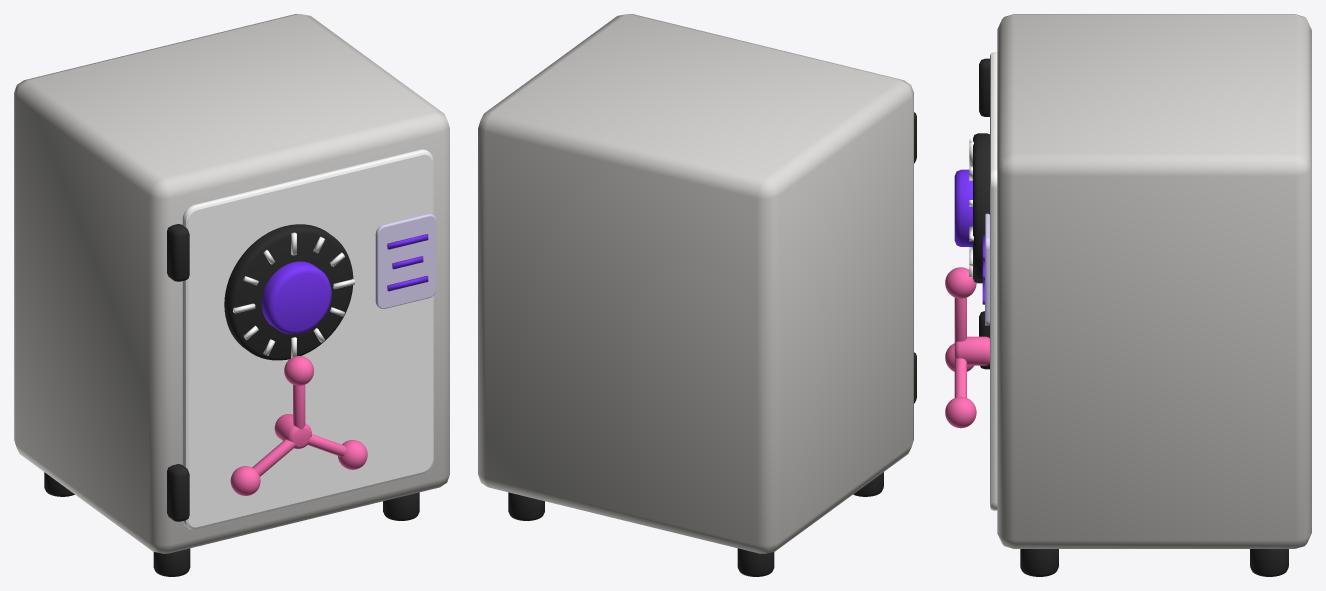
File: coffre.glb
The picture shows the model from 3 angles, left to right: view 1: azimuth 30°, elevation 25°; view 2: azimuth 150°, elevation 25°; view 3: azimuth 270°, elevation 25°; orthographic projection. The views are drawn at different scales.
Parts seen in each view (by area): view 1: box, ext, cyl.004, ext.001, cyl.005, box.002, box.001, cyl, cyl.002, cyl.006, sph, sph.001 (+3 smaller); view 2: box, cyl.001, cyl.003; view 3: box, ext, cyl.004, cyl.005, cyl.002, cyl.003, cyl.006, sph.002, sph, box.002, box.015, ext.001 (+1 smaller).
Part boxes in pixels (bbox=[...]): box: bbox=[14, 14, 449, 553]; ext: bbox=[182, 149, 433, 529]; cyl.004: bbox=[224, 224, 353, 360]; ext.001: bbox=[375, 214, 436, 308]; cyl.005: bbox=[261, 261, 331, 334]; box.002: bbox=[167, 224, 189, 281]; box.001: bbox=[167, 464, 189, 521]; cyl: bbox=[153, 548, 190, 576]; cyl.002: bbox=[383, 492, 419, 520]; cyl.006: bbox=[274, 414, 311, 448]; sph: bbox=[284, 356, 313, 385]; sph.001: bbox=[230, 466, 260, 495]; box: bbox=[478, 14, 913, 553]; cyl.001: bbox=[737, 548, 774, 576]; cyl.003: bbox=[508, 492, 544, 520]; box: bbox=[997, 14, 1311, 548]; ext: bbox=[990, 52, 997, 510]; cyl.004: bbox=[973, 133, 989, 283]; cyl.005: bbox=[954, 169, 972, 246]; cyl.002: bbox=[1020, 549, 1058, 576]; cyl.003: bbox=[1250, 549, 1288, 576]; cyl.006: bbox=[954, 336, 989, 365]; sph.002: bbox=[945, 396, 976, 428]; sph: bbox=[945, 267, 976, 298]; box.002: bbox=[979, 58, 989, 116]; box.015: bbox=[954, 297, 966, 342]; ext.001: bbox=[985, 213, 989, 325].
Size of the model in its own units: 3 by 3.9 by 3.03.
